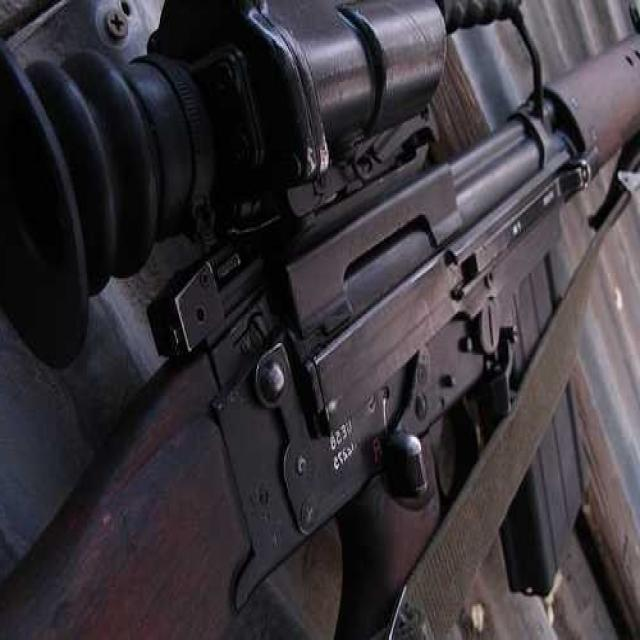heavyweapon: (9, 1, 640, 640)
